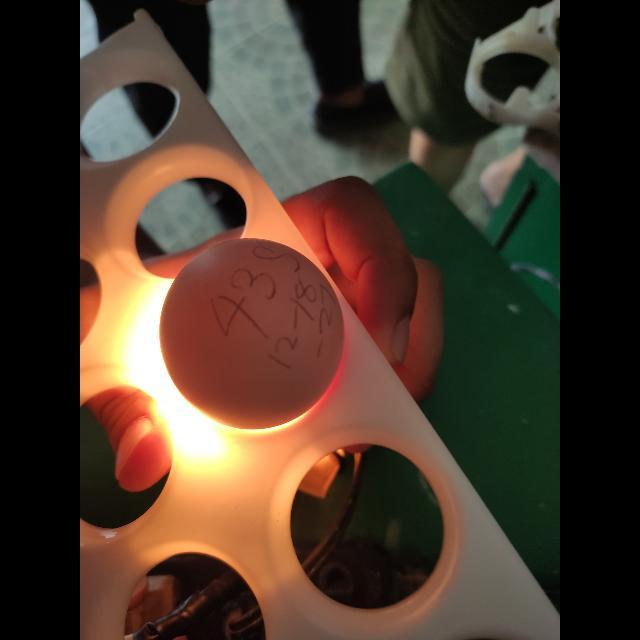Fertile: (156, 235, 348, 438)
